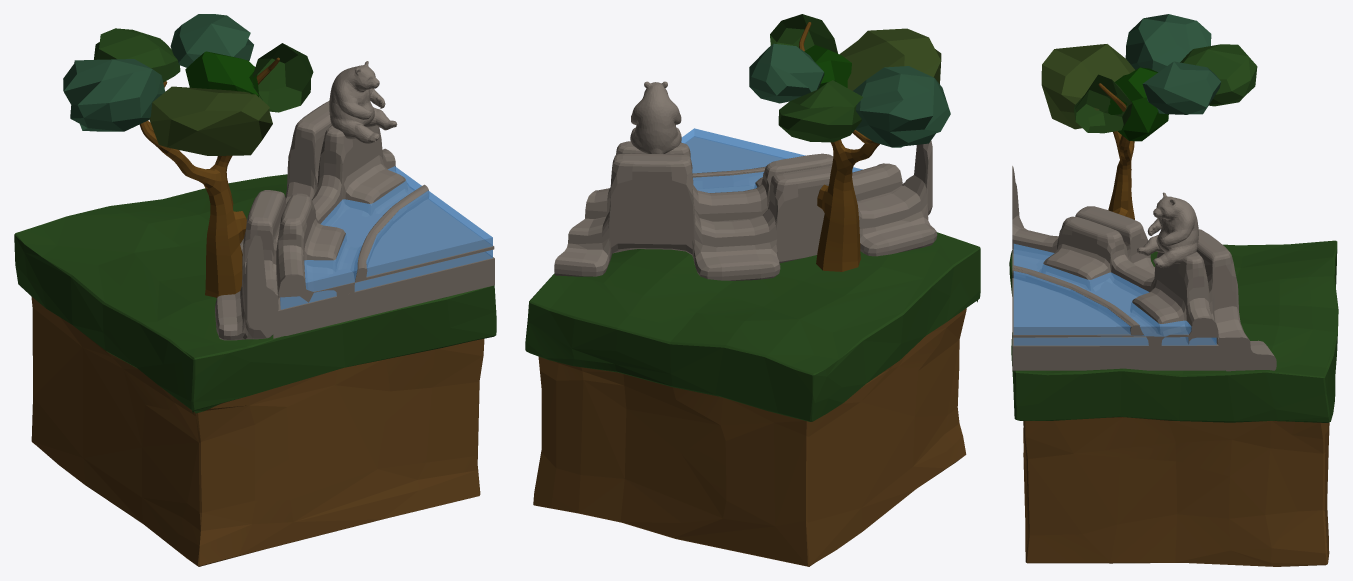
3 renders of one model, left to right at view 1: azimuth 30°, elevation 25°; view 2: azimuth 150°, elevation 25°; view 3: azimuth 270°, elevation 25°, orthographic. The views are drawn at different scales.
Parts seen in each view (by area): view 1: L1, tree trunk.001; view 2: L1, tree trunk.001; view 3: L1, tree trunk.001.
Part boxes in pixels (box(x1,y1,x2,y2)): L1: box(14, 61, 496, 566); tree trunk.001: box(63, 14, 313, 297); L1: box(525, 81, 980, 566); tree trunk.001: box(749, 14, 950, 271); L1: box(1009, 166, 1338, 566); tree trunk.001: box(1041, 14, 1257, 219).
Size of the model in its own units: 1.2 by 1.54 by 1.09.
